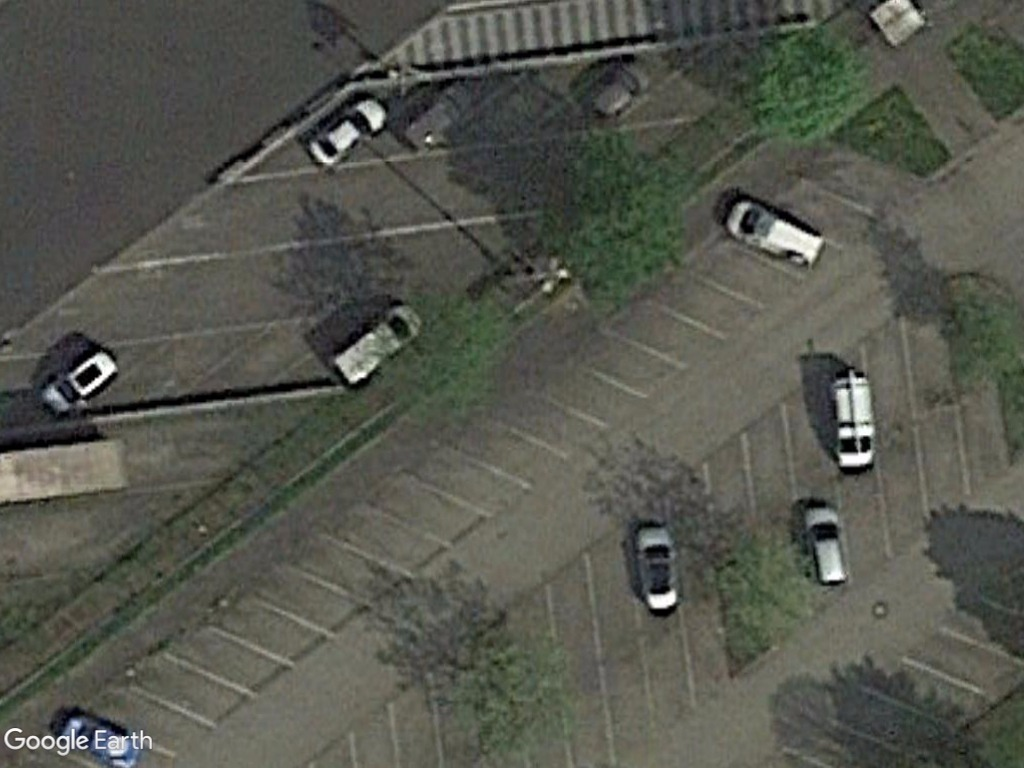car: (305, 94, 389, 170), (633, 521, 686, 618), (801, 501, 850, 596)
van: (326, 298, 426, 393), (724, 194, 830, 271), (828, 365, 876, 477)
